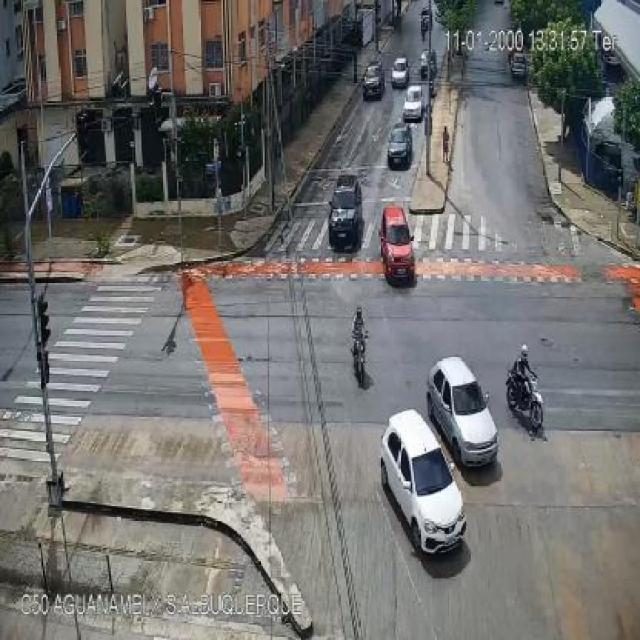Car: (381, 410, 465, 554), (430, 356, 500, 466), (381, 207, 417, 284), (327, 175, 362, 249), (386, 123, 414, 167), (362, 62, 384, 99), (402, 86, 423, 120), (391, 57, 410, 87), (419, 49, 437, 80), (510, 51, 528, 79)
